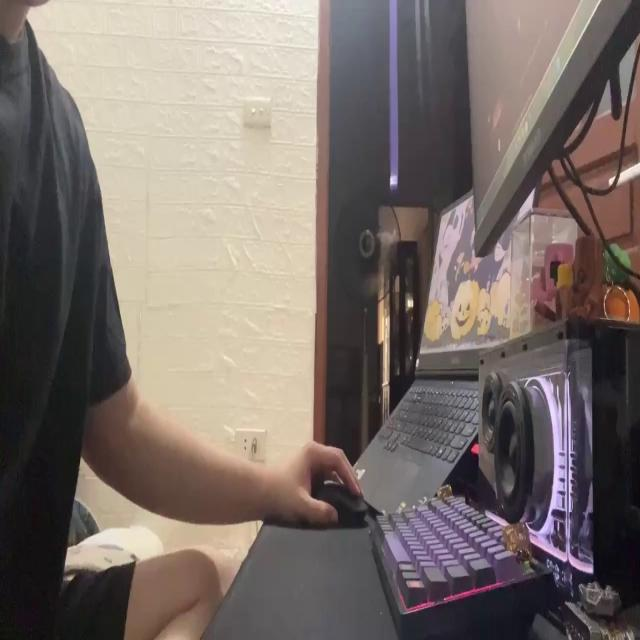laptop: (342, 162, 540, 512), (458, 0, 640, 252)
student: (0, 0, 368, 640)
